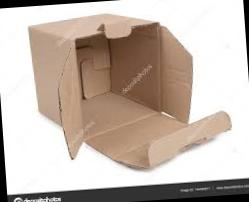Kertas: (29, 14, 229, 167)
